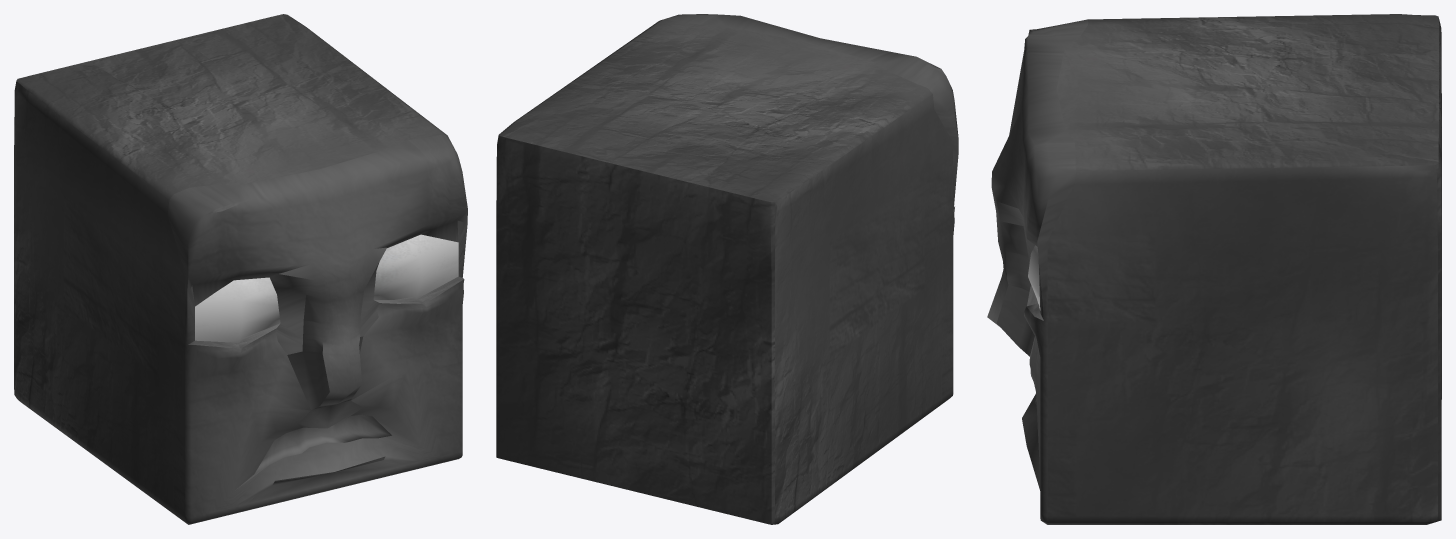
File: korossaru.fbx
3 renders of one model, left to right at view 1: azimuth 30°, elevation 25°; view 2: azimuth 150°, elevation 25°; view 3: azimuth 270°, elevation 25°, orthographic. The views are drawn at different scales.
Visible parts, largest first — view 1: polySurface2, polySurface1; view 2: polySurface2; view 3: polySurface2.
Boxes of the visible parts, box(x1,y1,x2,y2) form: polySurface2: box(14, 14, 467, 524); polySurface1: box(195, 234, 458, 342); polySurface2: box(496, 14, 958, 524); polySurface2: box(987, 14, 1441, 524).
Size of the model in its own units: 0.9118 by 0.9993 by 1.13.
2 materials, 2 textured.
